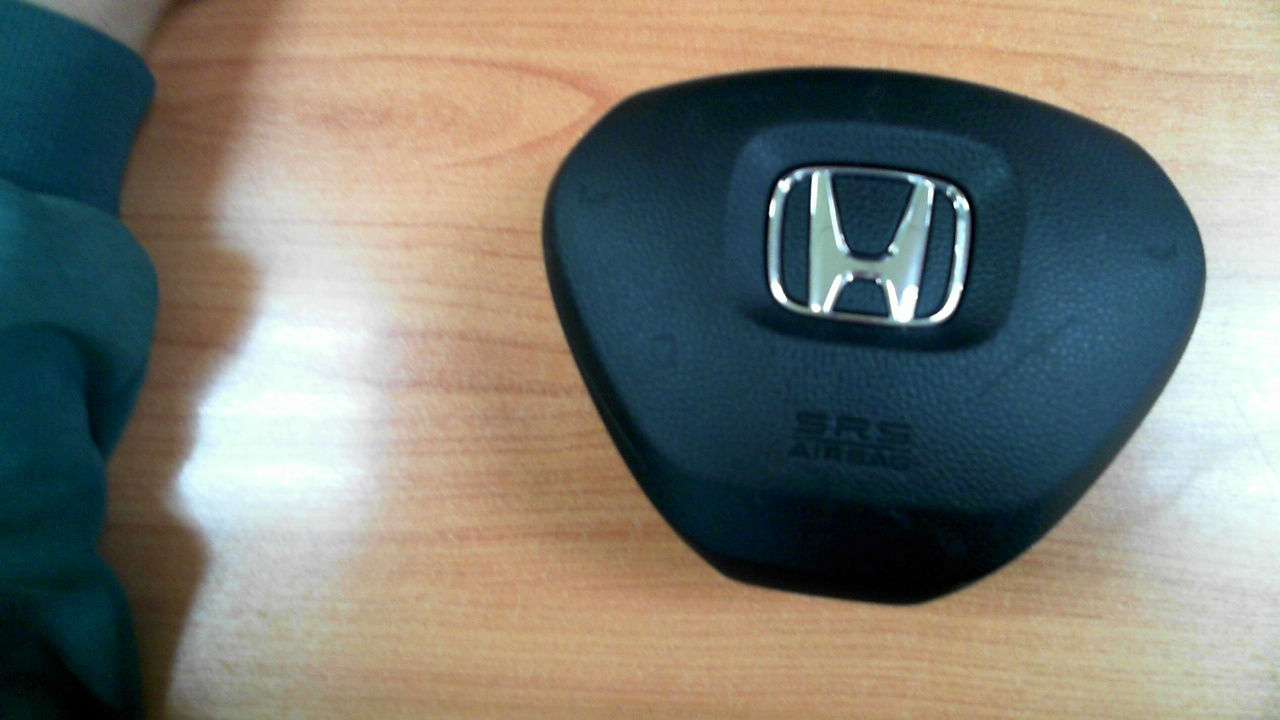Airbag: (541, 65, 1208, 605)
Honda: (766, 165, 972, 326)
